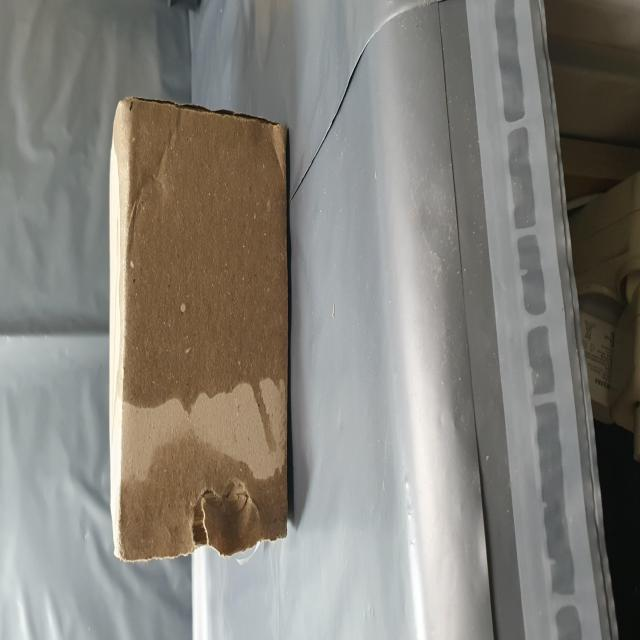wet: (41, 196, 303, 517)
